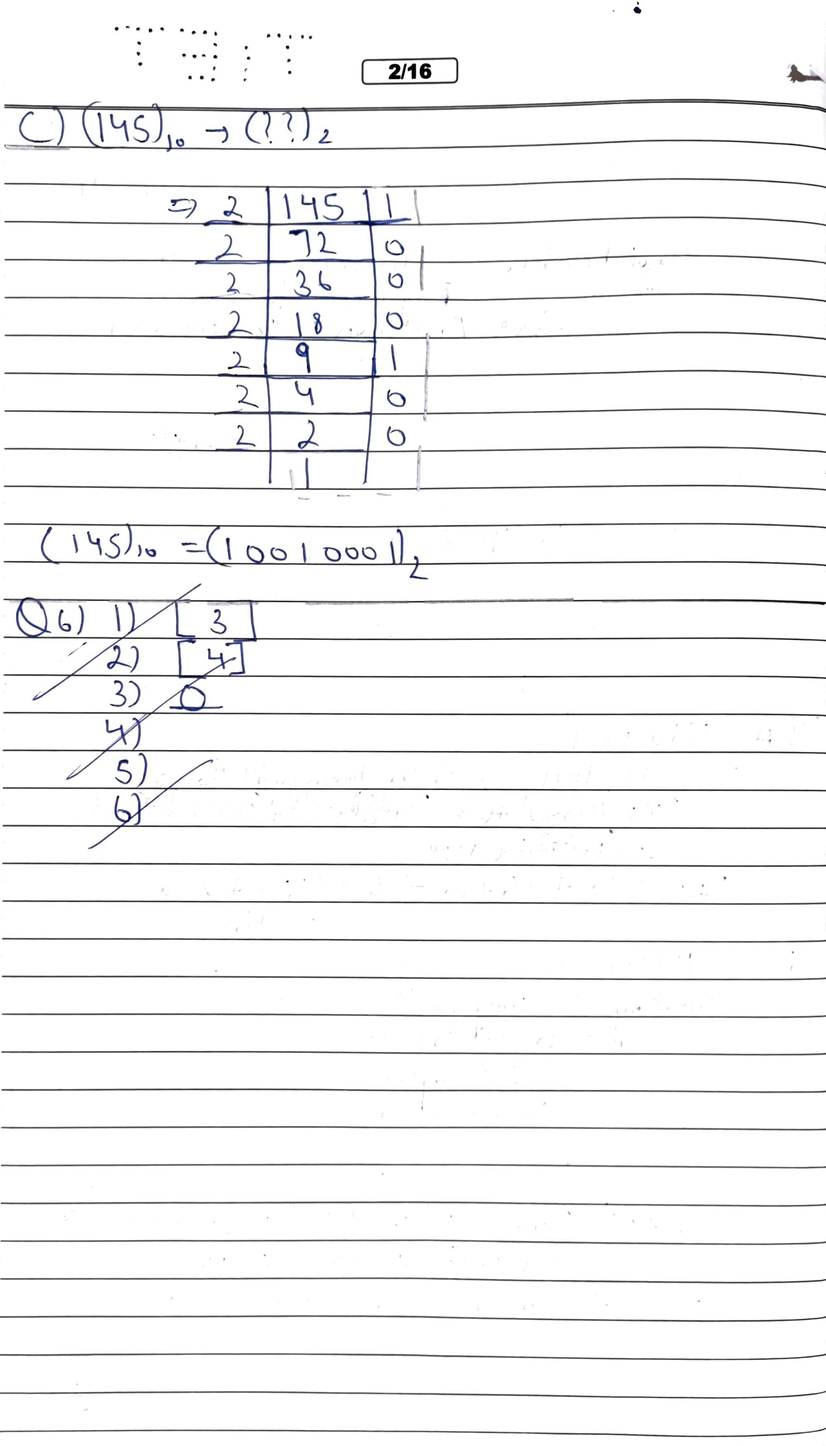cuttings: (28, 578, 262, 856)
